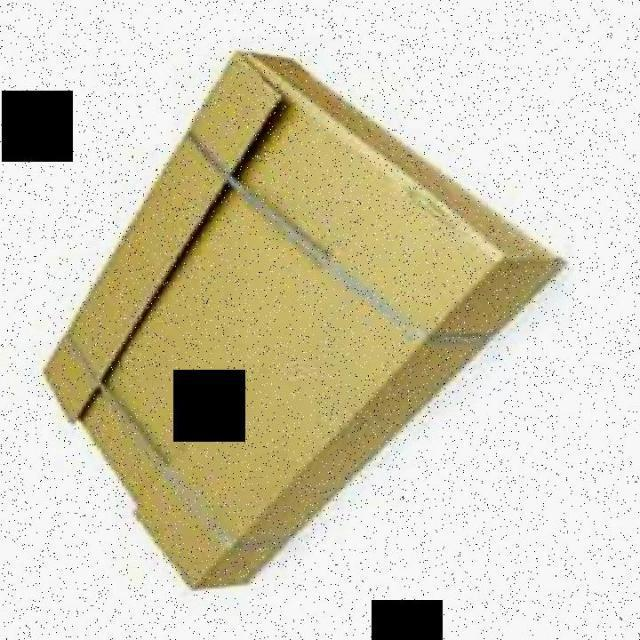box: (32, 38, 591, 596)
